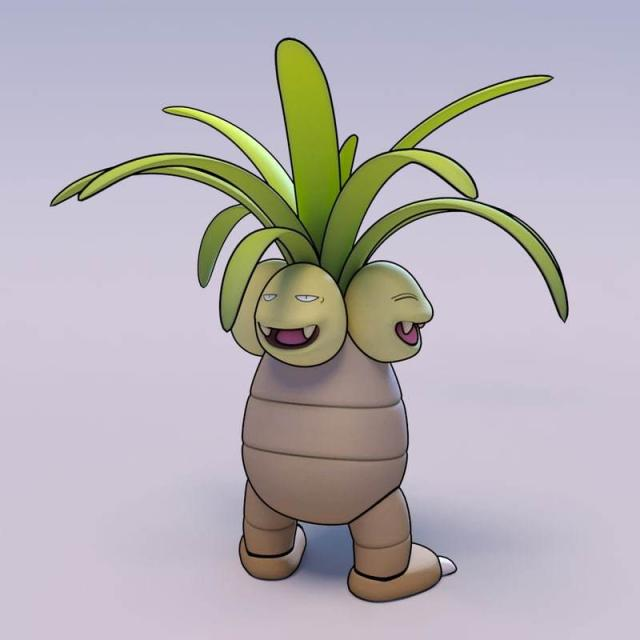Exeggutor: (217, 134, 449, 604)
